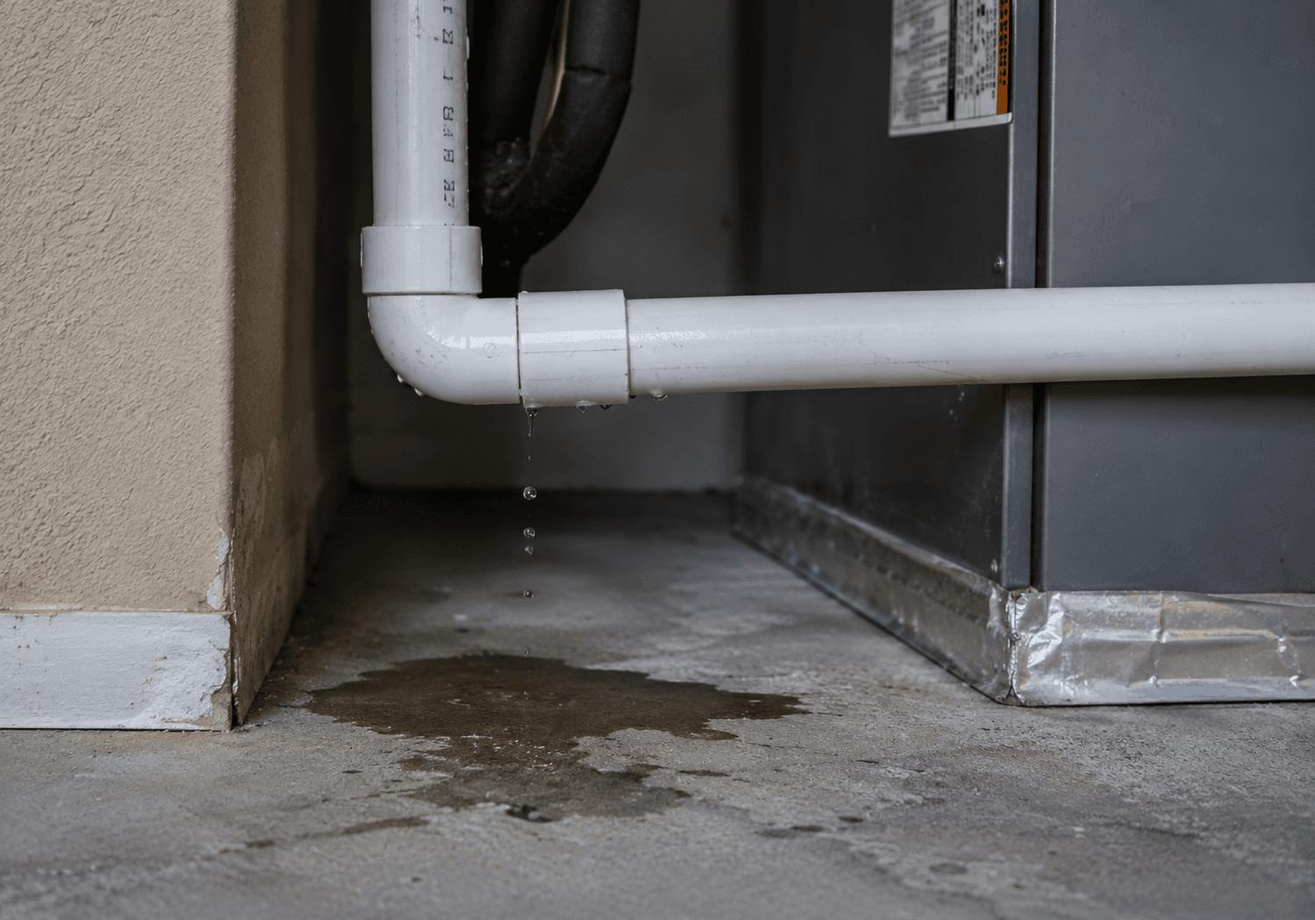water accumulation: (303, 646, 813, 827)
water drop: (522, 586, 536, 604), (652, 389, 669, 403), (524, 485, 537, 500), (524, 528, 537, 540), (522, 546, 535, 558), (525, 405, 539, 416), (598, 402, 615, 411), (576, 402, 589, 413)
